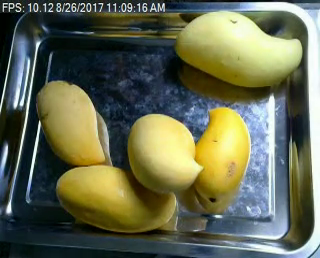Mango: (172, 10, 307, 91), (54, 164, 178, 237), (183, 104, 247, 216), (31, 79, 109, 167), (125, 110, 202, 191)
